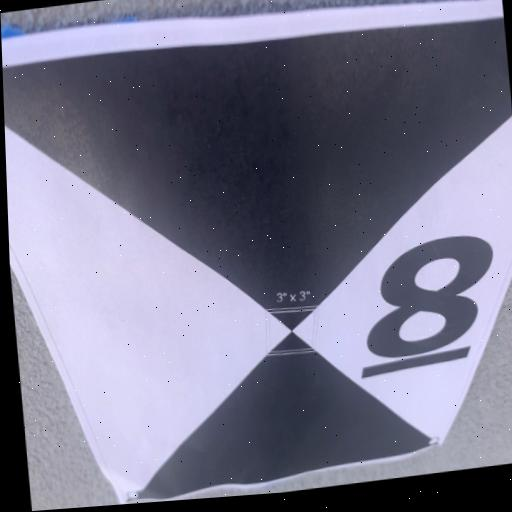target8: (2, 0, 512, 504)
